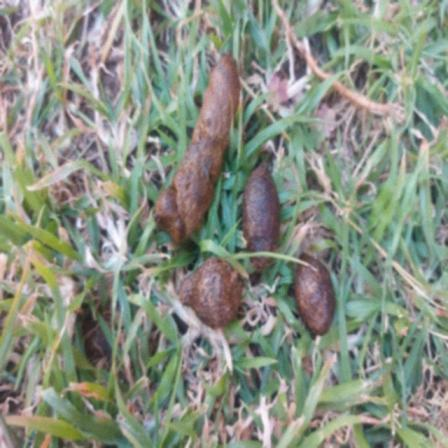dog-poop: (146, 41, 249, 255), (182, 257, 340, 330), (245, 168, 291, 278)
